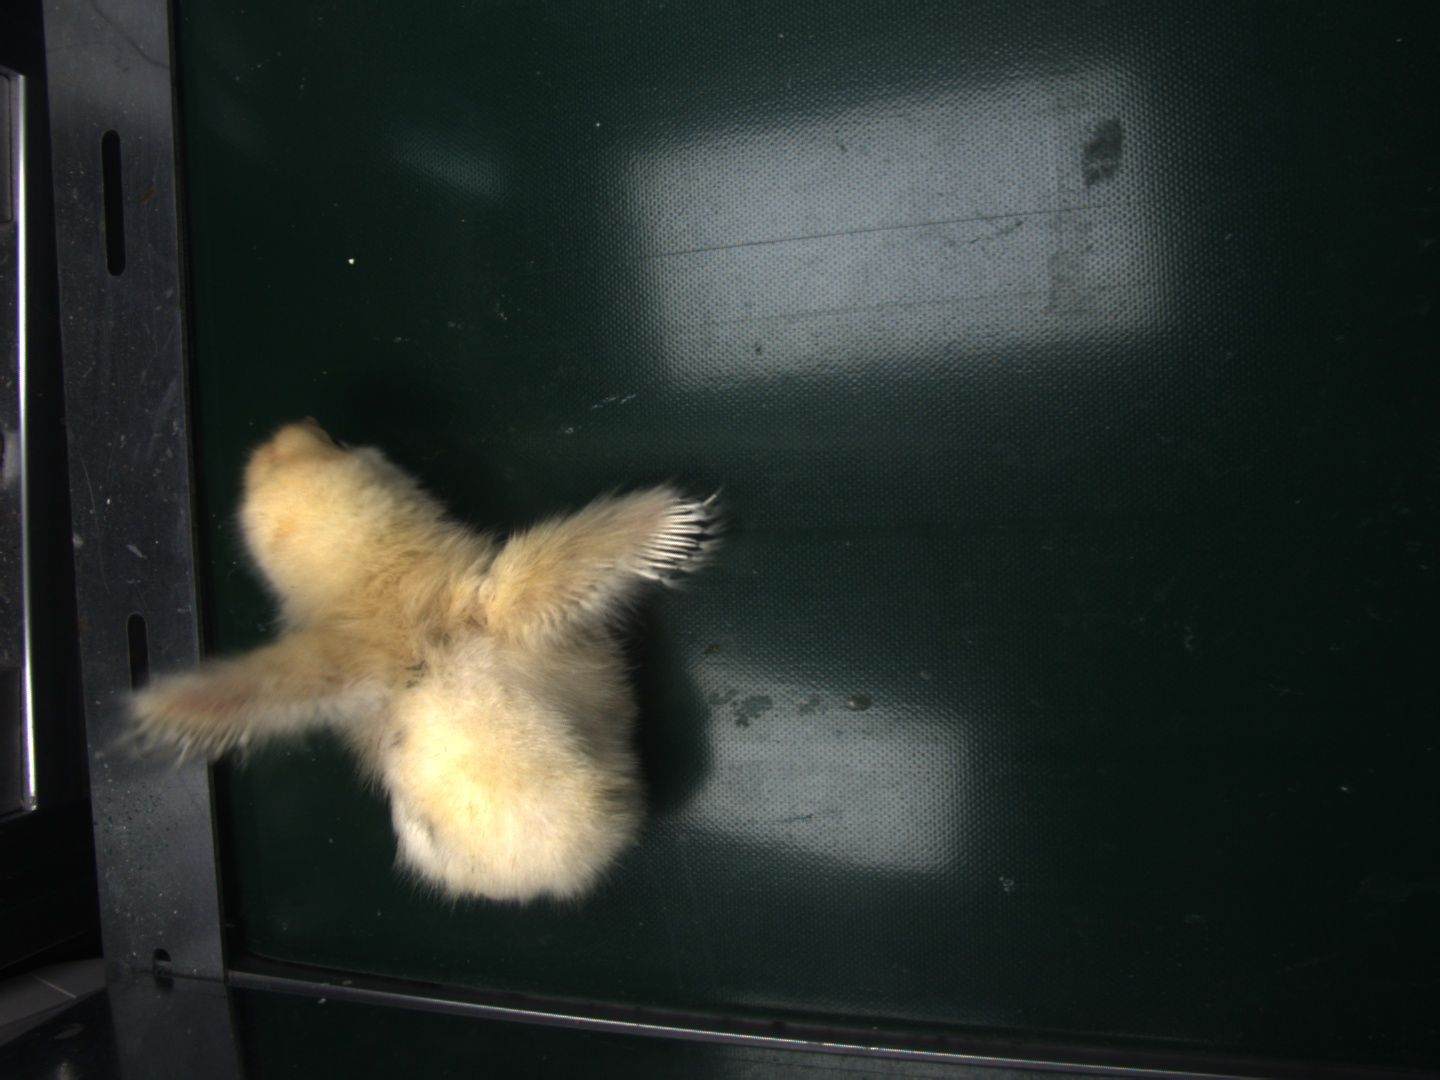male: (630, 497, 708, 583)
